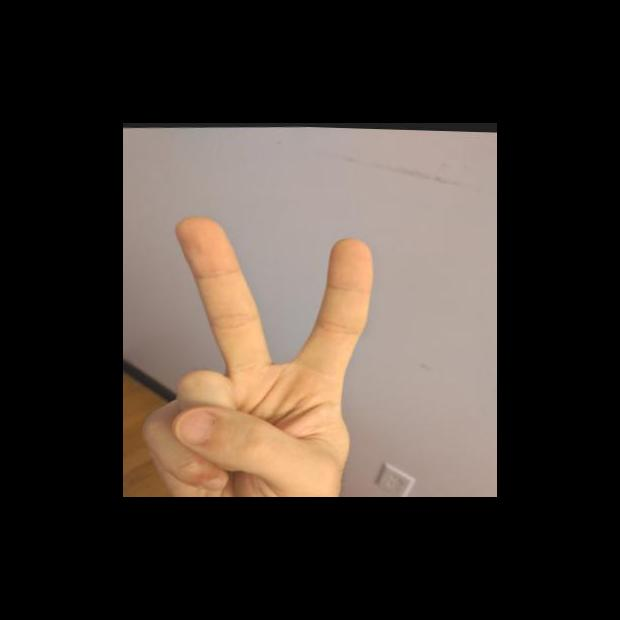U: (127, 204, 394, 496)
